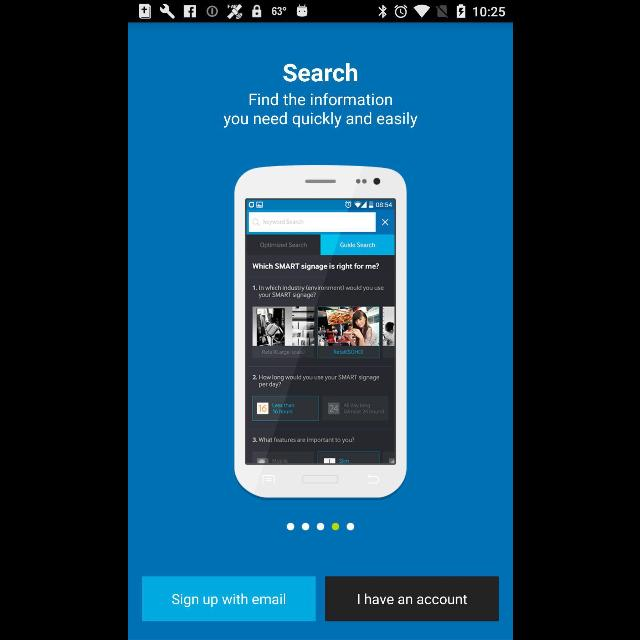image: (234, 165, 406, 499)
pageindicator: (286, 522, 354, 532)
text: (223, 94, 417, 128), (282, 64, 356, 82)
textbutton: (141, 576, 315, 622), (324, 577, 498, 621)
uppertaskbar: (128, 1, 512, 23)
